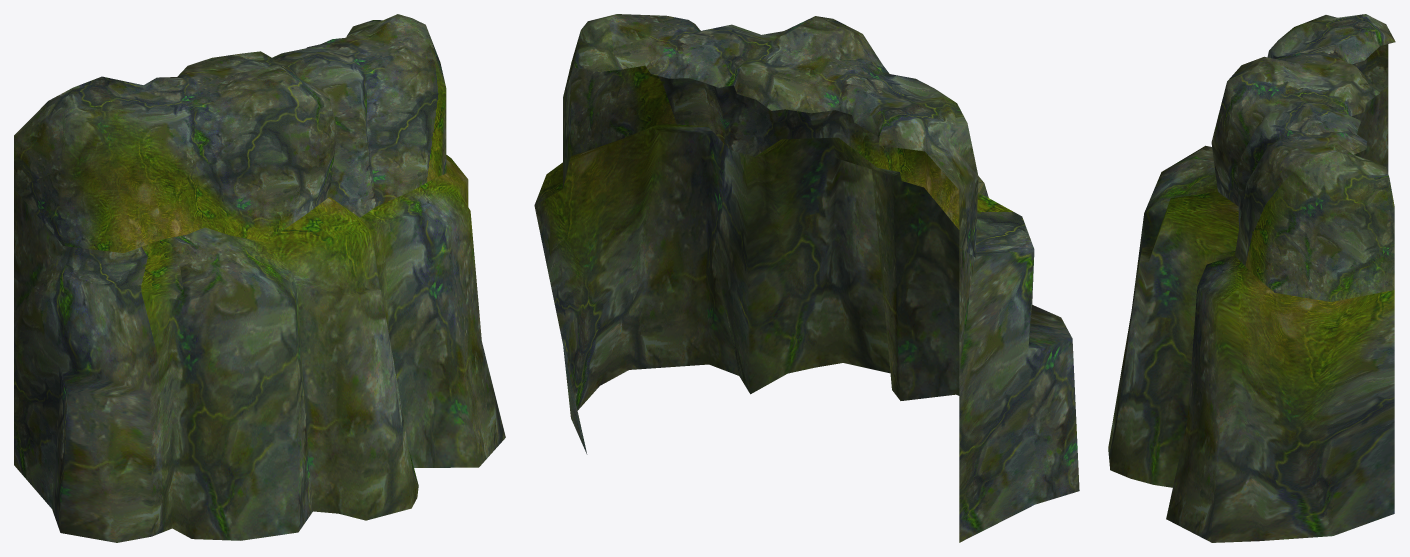
The model's file is 10204_ground02.FBX.
The picture shows the model from 3 angles, left to right: view 1: azimuth 30°, elevation 25°; view 2: azimuth 150°, elevation 25°; view 3: azimuth 270°, elevation 25°; orthographic projection. The views are drawn at different scales.
Parts seen in each view (by area): view 1: 10204_ground02; view 2: 10204_ground02; view 3: 10204_ground02.
Boxes of the visible parts, box(x1,y1,x2,y2) form: 10204_ground02: box(14, 14, 505, 542); 10204_ground02: box(534, 14, 1079, 542); 10204_ground02: box(1108, 14, 1395, 542).
Size of the model in its own units: 923 by 781 by 537.
